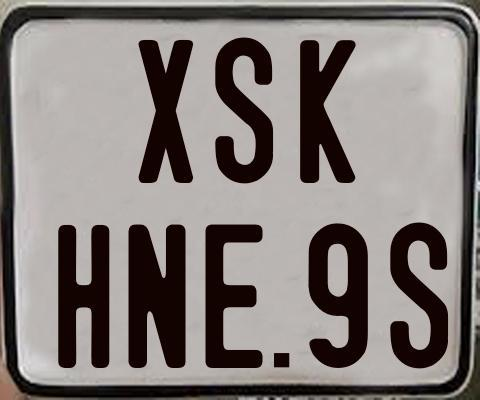9: (305, 220, 370, 371)
E: (202, 223, 266, 369)
H: (56, 222, 109, 368)
K: (300, 39, 361, 182)
N: (126, 221, 189, 369)
S: (388, 219, 452, 367), (215, 36, 275, 188)
X: (137, 37, 196, 184)
